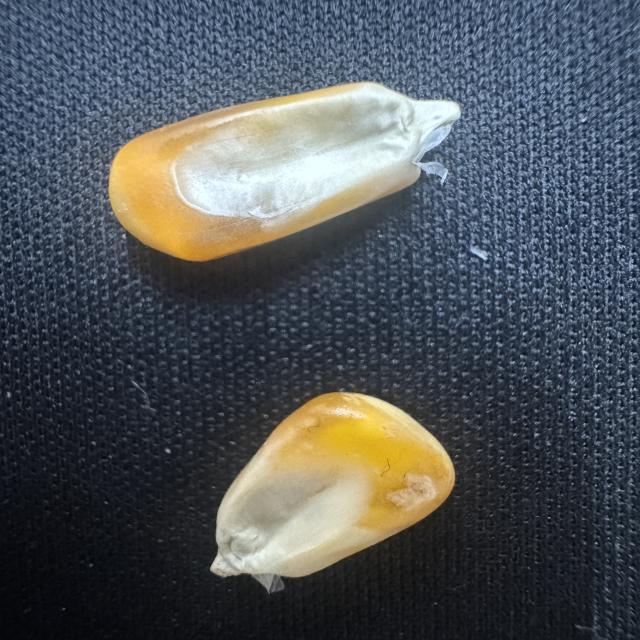Good-Seed: (100, 76, 472, 260), (191, 382, 467, 590)
